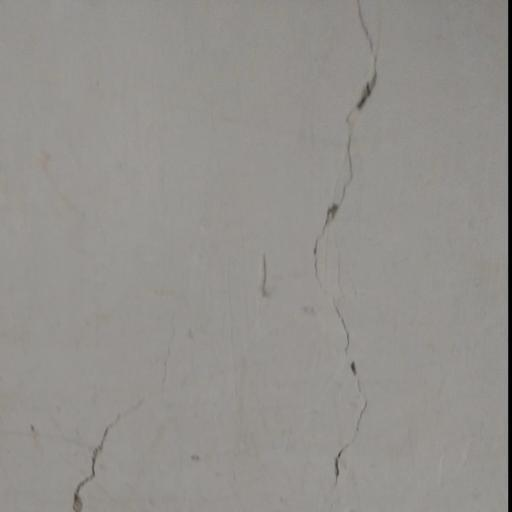minor_crack: (311, 0, 390, 512), (66, 389, 162, 512)
